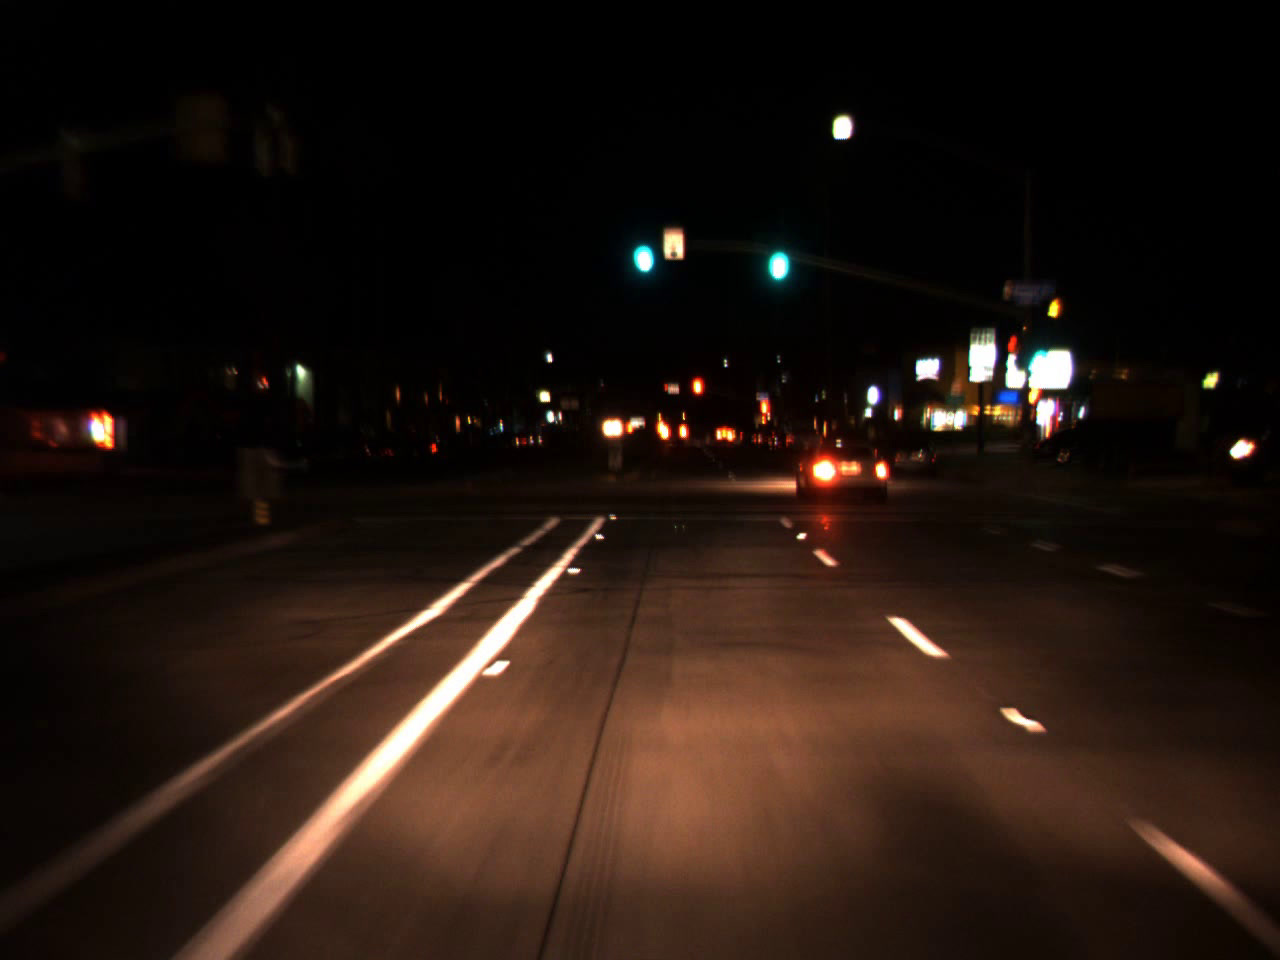go: (761, 212, 793, 293), (624, 208, 658, 283), (1018, 320, 1054, 380)
stop: (690, 375, 705, 415), (756, 398, 771, 425)
